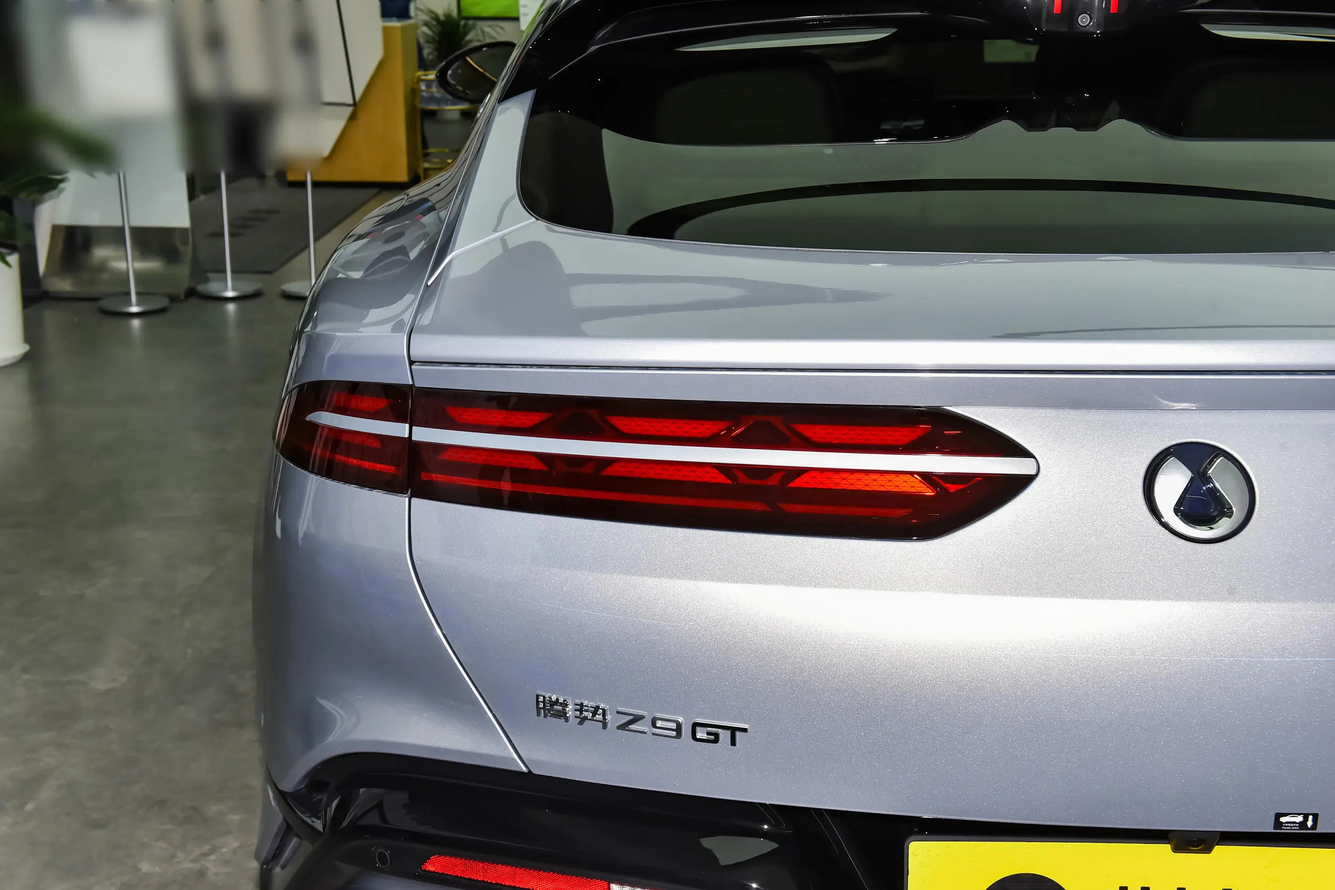DENZA: (1155, 457, 1248, 538)
